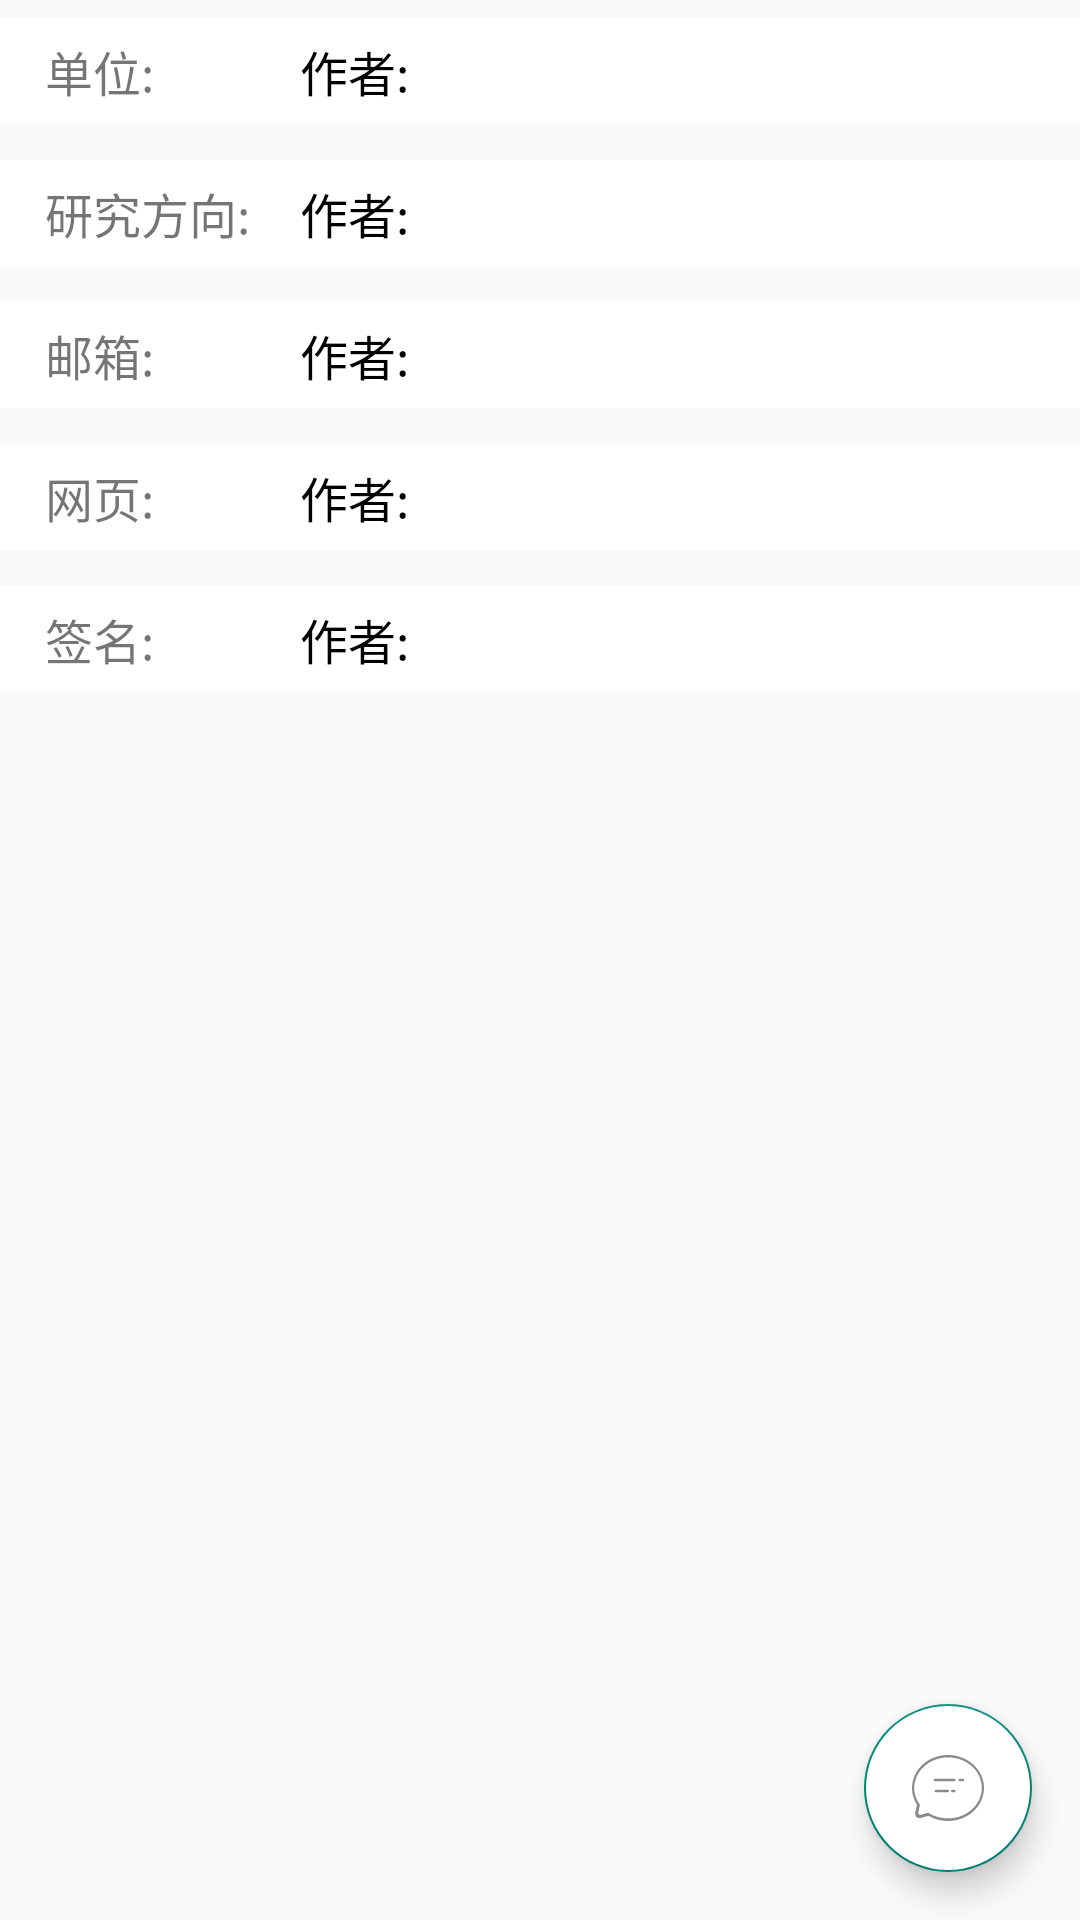

Locate icon controls on the screen. Image size 1080px x 1920px, boxes as bbox=(x1, y1, x2, y2).
start chat: bbox=(864, 1704, 1032, 1872)
